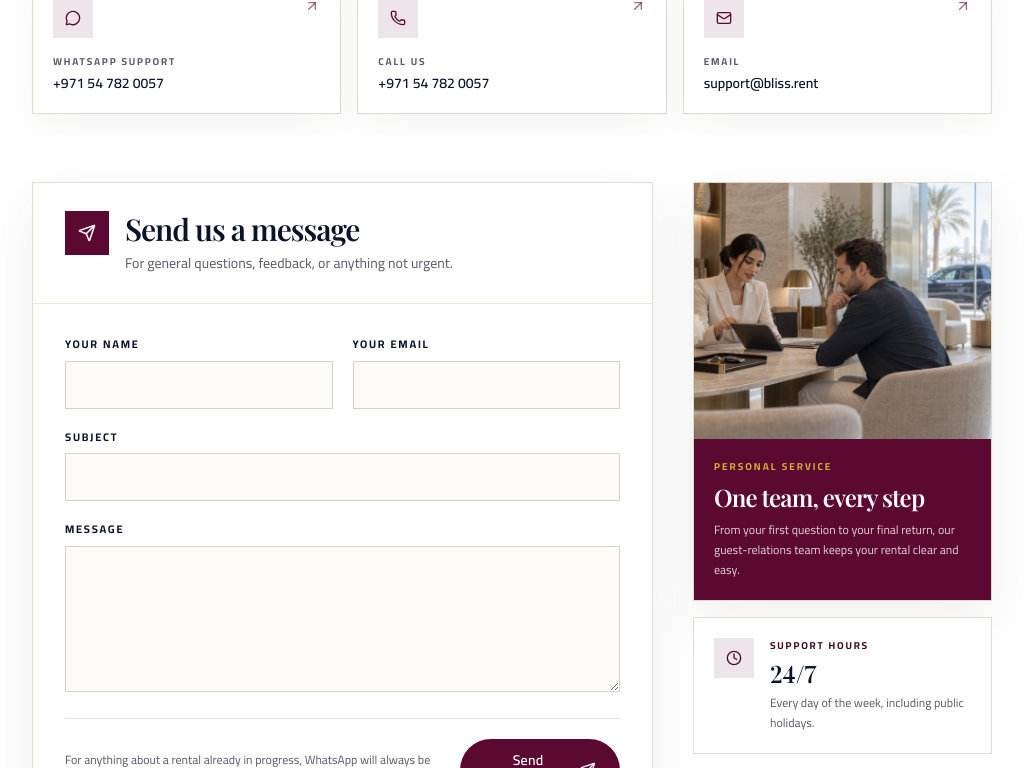
ContactPage › shows an inline error and does not falsely report success when the Edge Function returns an error
This screenshot has width=1024, height=768.
(page scrolled)
Type "Jane Renter" into the field labelled "Your name".
click(199, 384); type("Jane Renter")  # box [65,360,332,408]
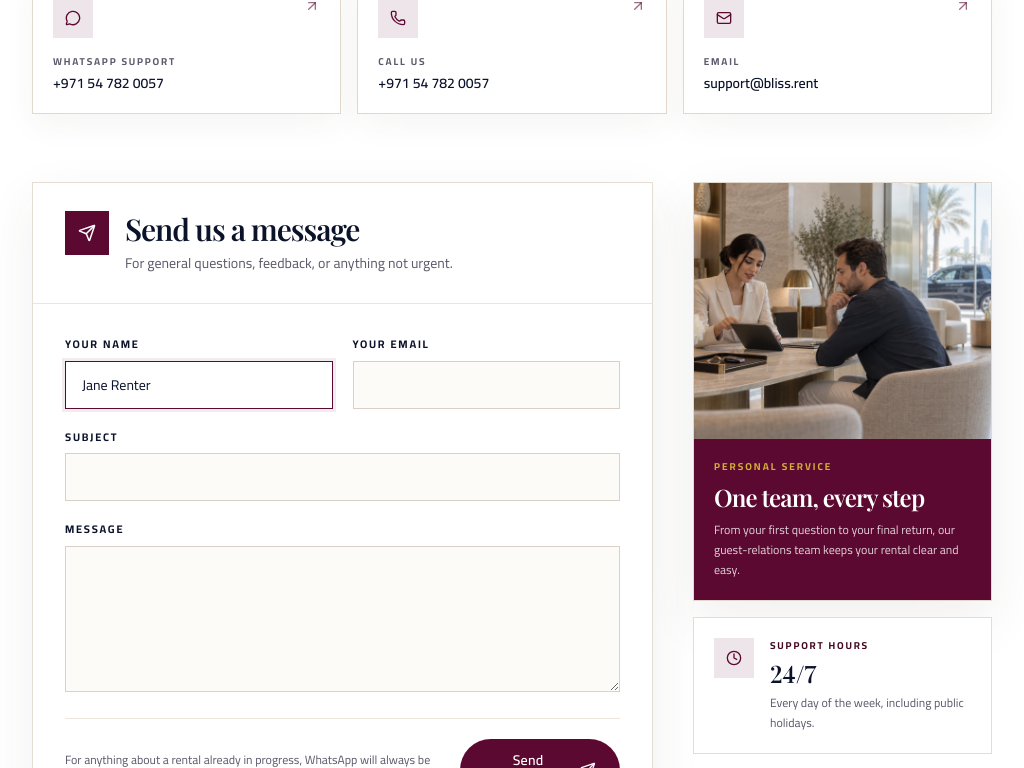
Type "jane@example.com" into the field labelled "Your email".
click(486, 384); type("jane@example.com")  # box [352,360,620,408]
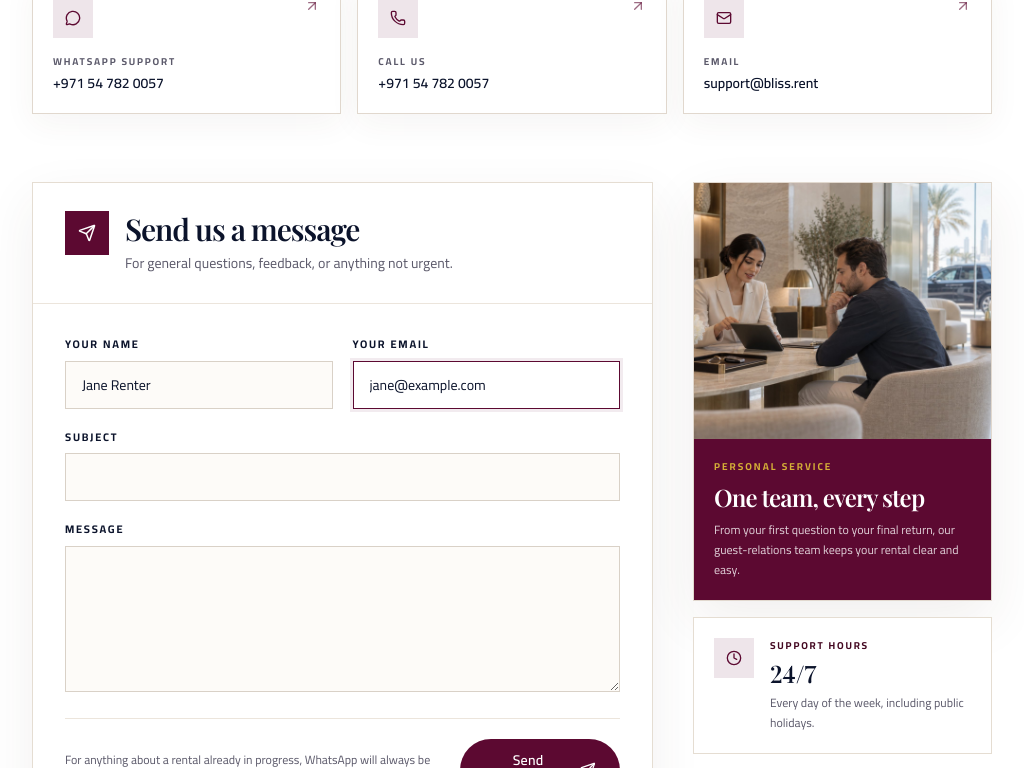
Type "My refund has not arrived yet." into the text box labelled "Message".
click(342, 618); type("My refund has not arrived yet.")  # box [65,546,620,692]
(page scrolled)
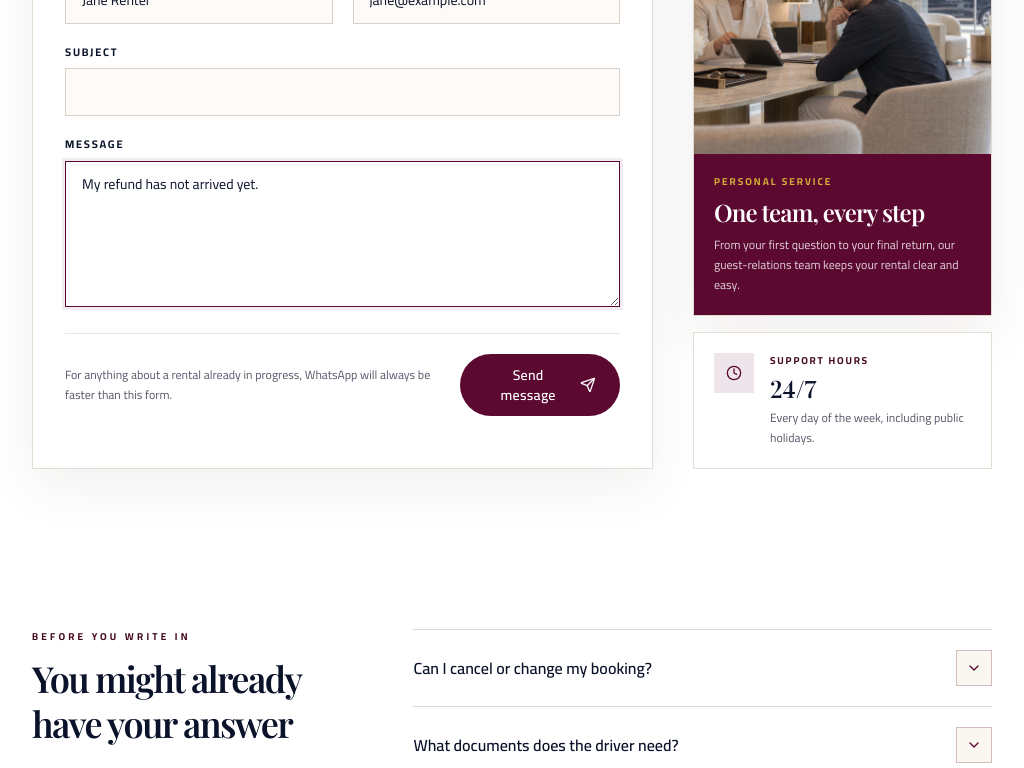
Click the button "Send message".
click(540, 384)  # box [460,354,620,416]
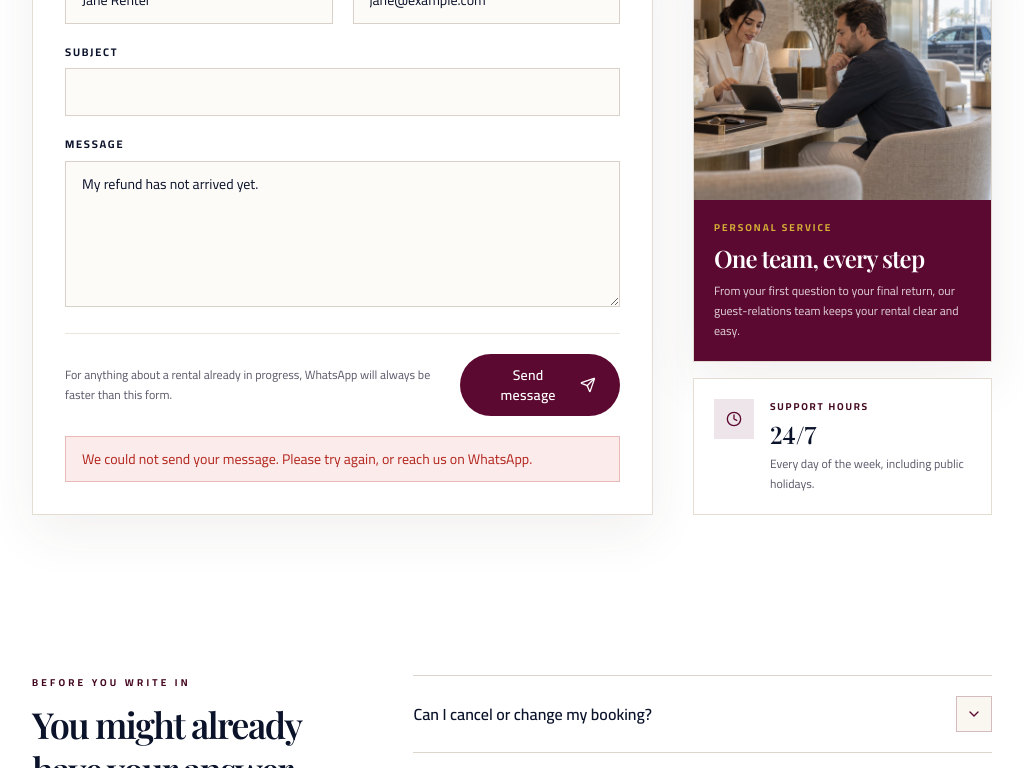
Expected: the text "We could not send your message" is shown, [82,446,532,472]
